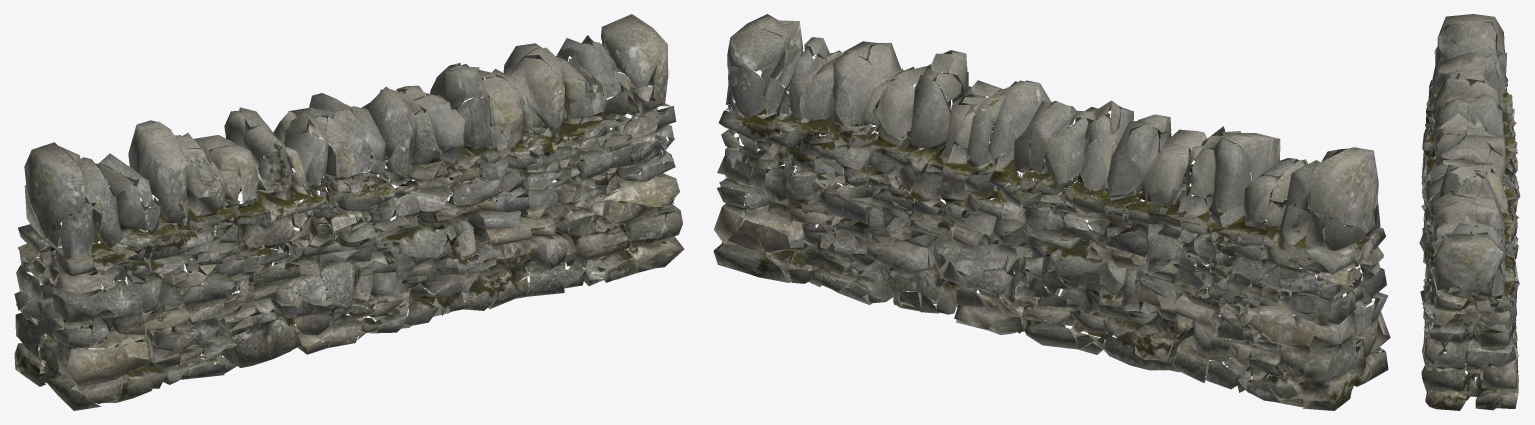
Rendered from fence.glb.
3 renders of one model, left to right at view 1: azimuth 30°, elevation 25°; view 2: azimuth 150°, elevation 25°; view 3: azimuth 270°, elevation 25°, orthographic. The views are drawn at different scales.
Parts seen in each view (by area): view 1: Mesh_0; view 2: Mesh_0; view 3: Mesh_0.
Part boxes in pixels (box(x1,y1,x2,y2)): Mesh_0: box(14, 14, 684, 410); Mesh_0: box(713, 14, 1390, 410); Mesh_0: box(1419, 14, 1520, 410).
Bounding box in the file's own units: 2.71 × 0.9999 × 0.5128.
Materials: 1 (1 with a texture image).
